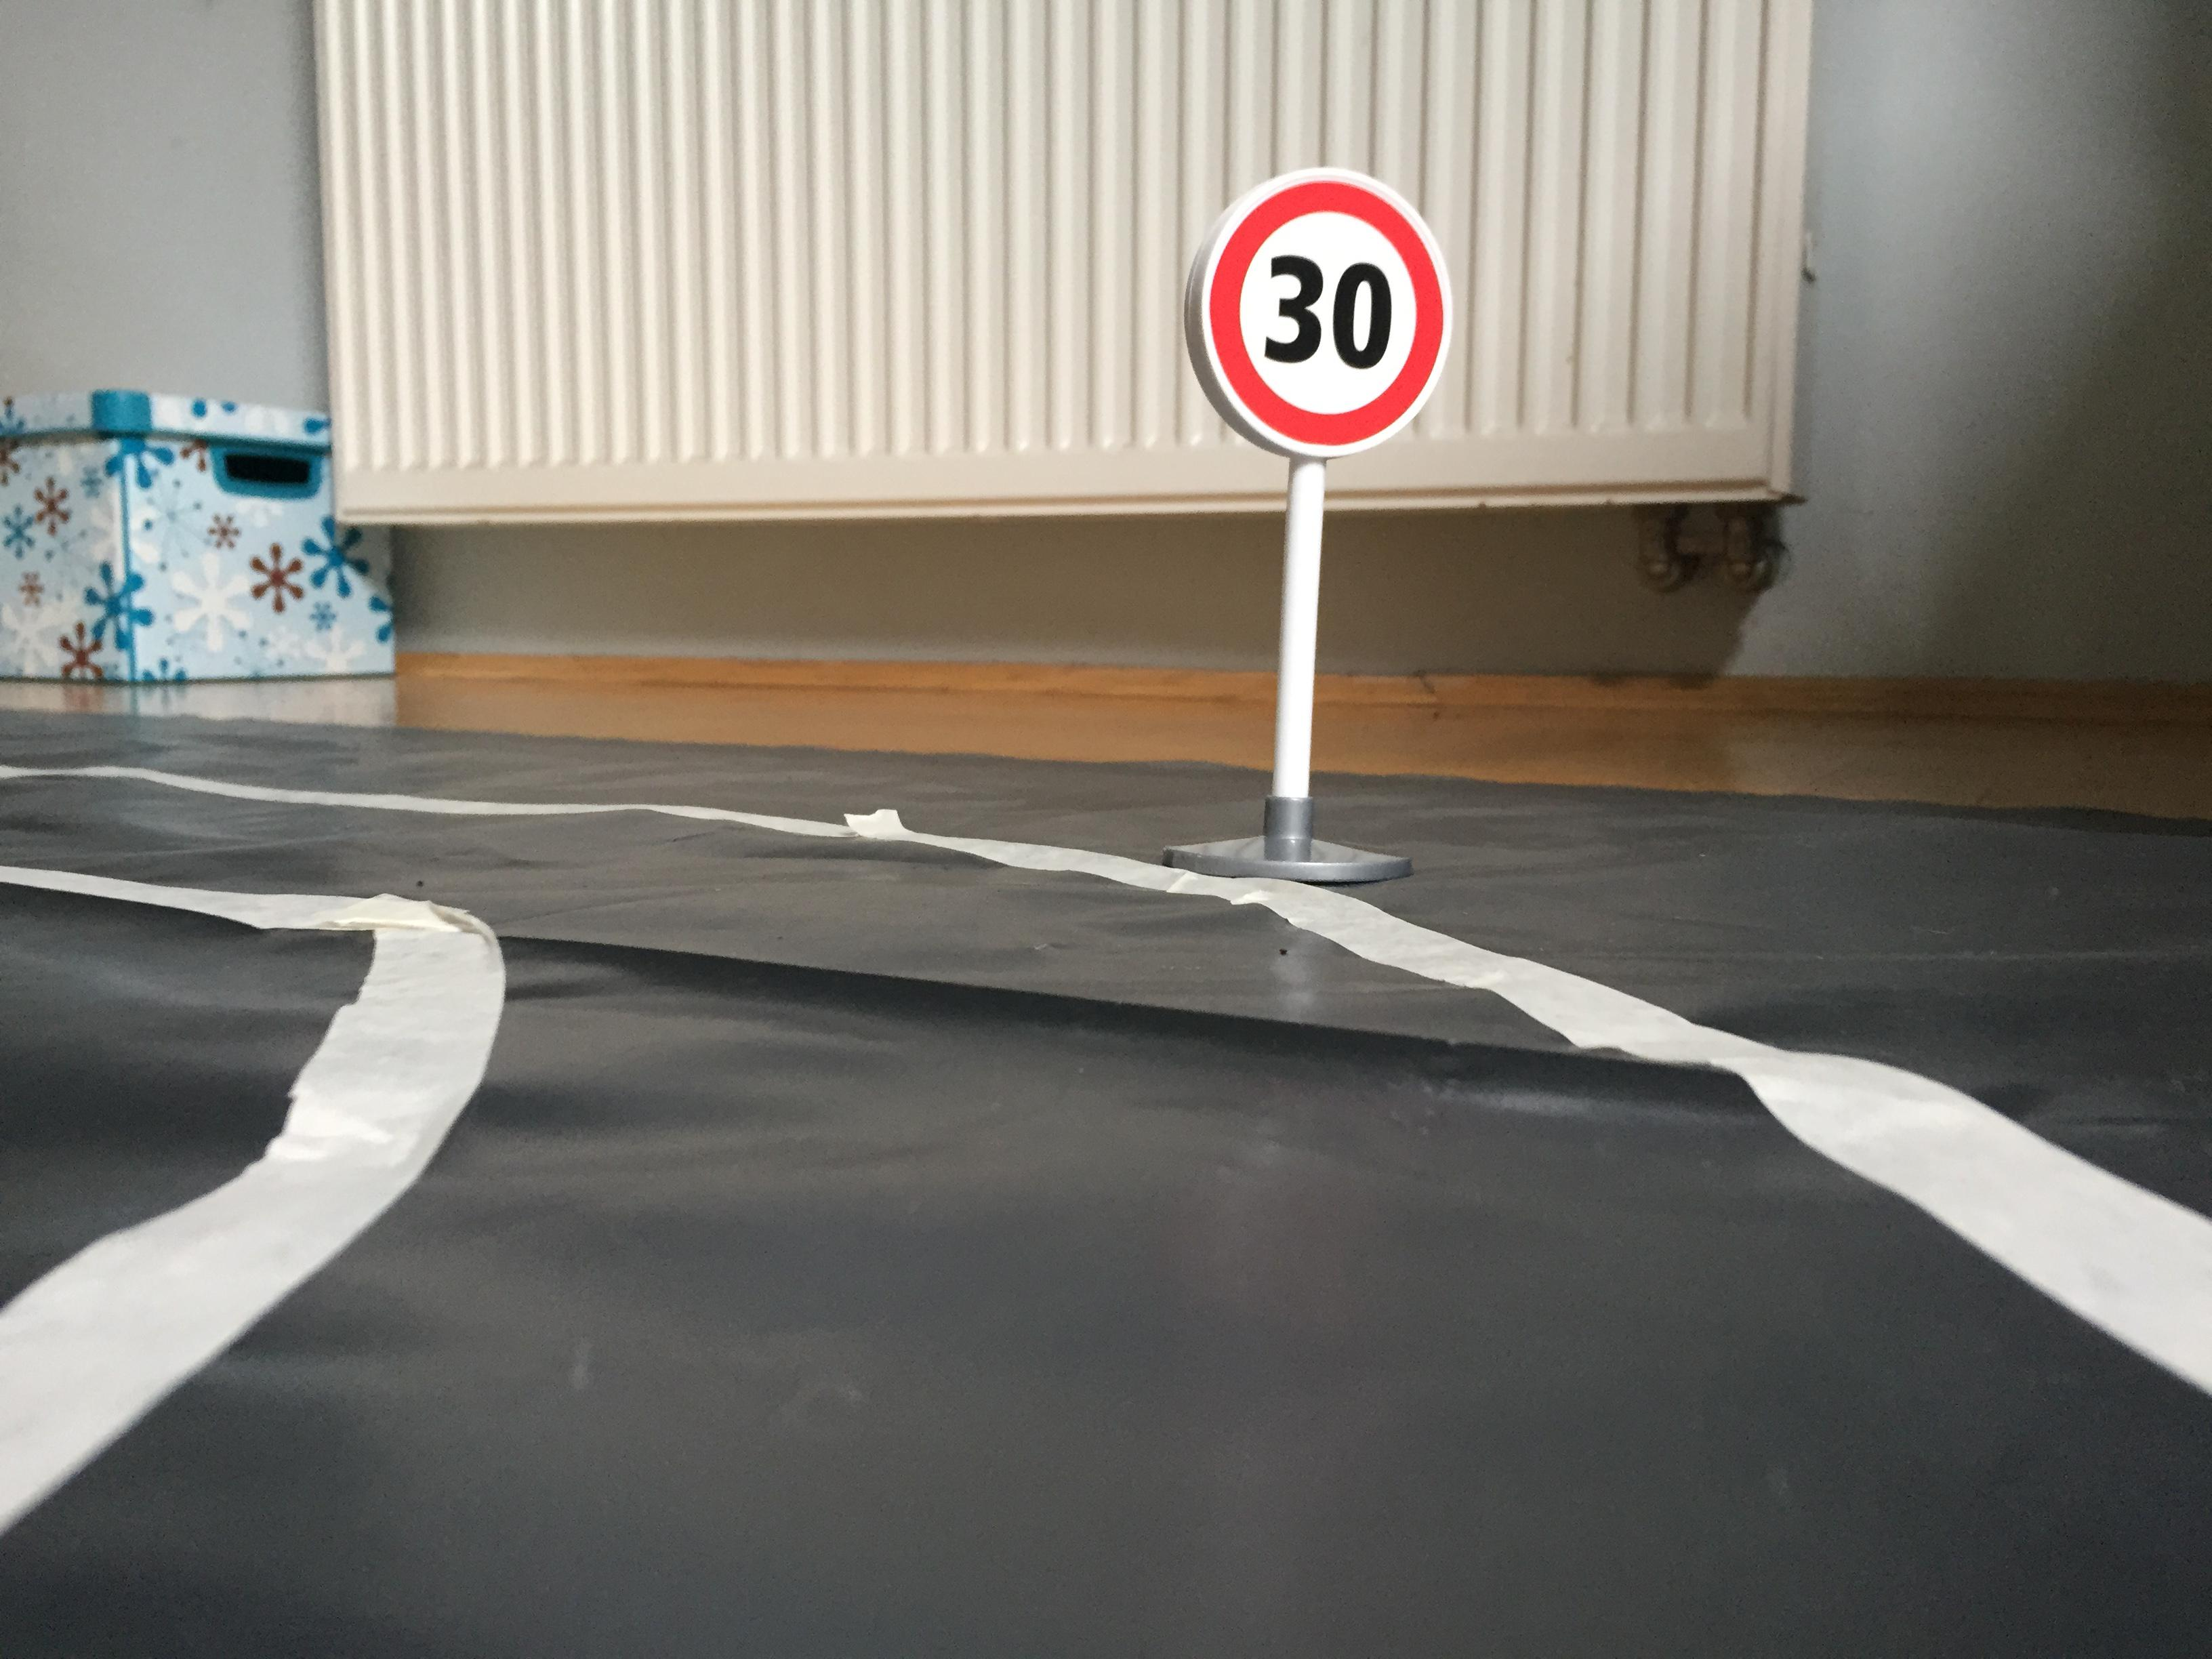speed: (1176, 162, 1458, 471)
